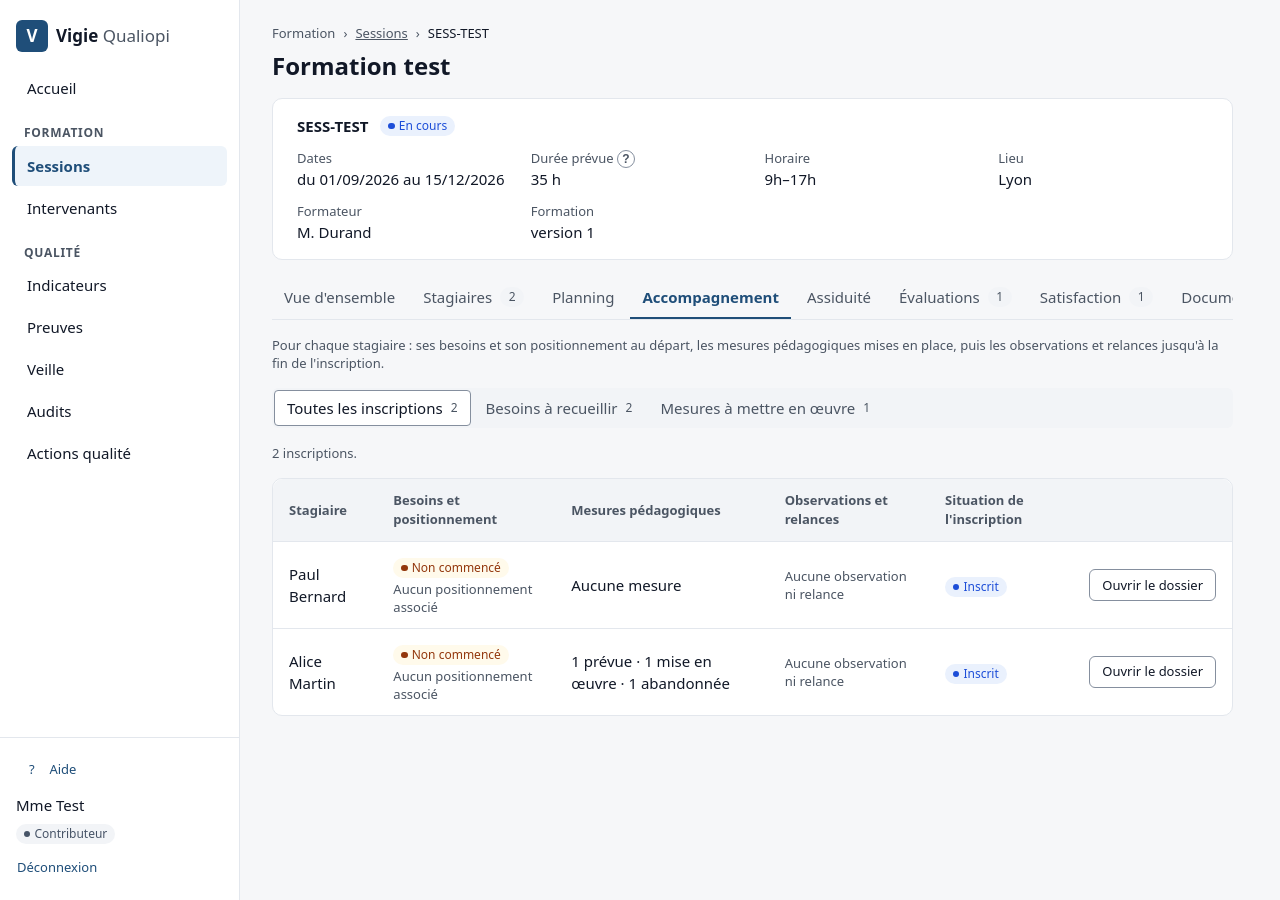
Test case: contributeur : mesures opérationnelles visibles et gérables
Click the button with aria-label "Ouvrir le dossier d".
click(1153, 672)  # box [1089,656,1216,688]
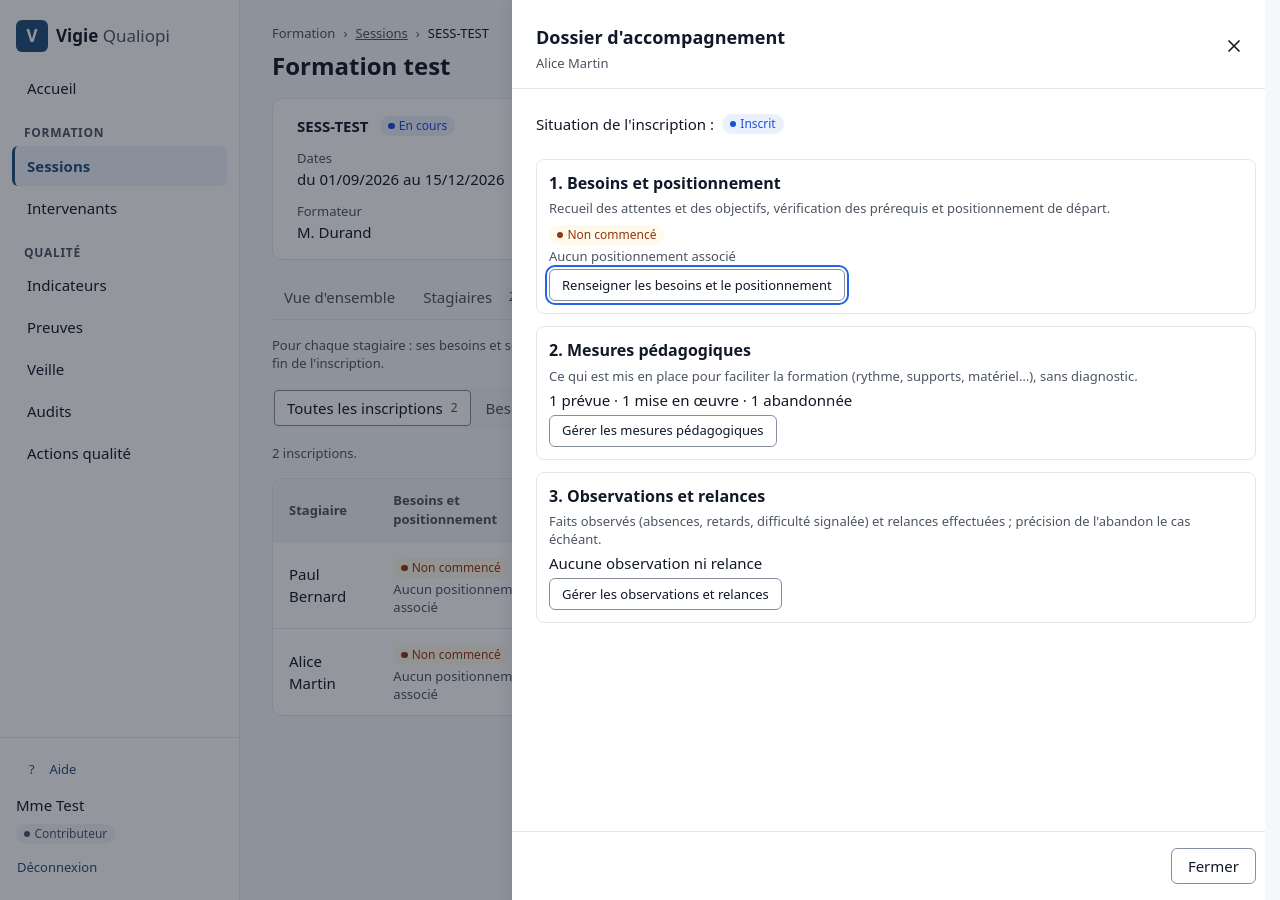
Click the button "Gérer les mesures pédagogiques".
click(663, 431)  # box [549,415,776,447]
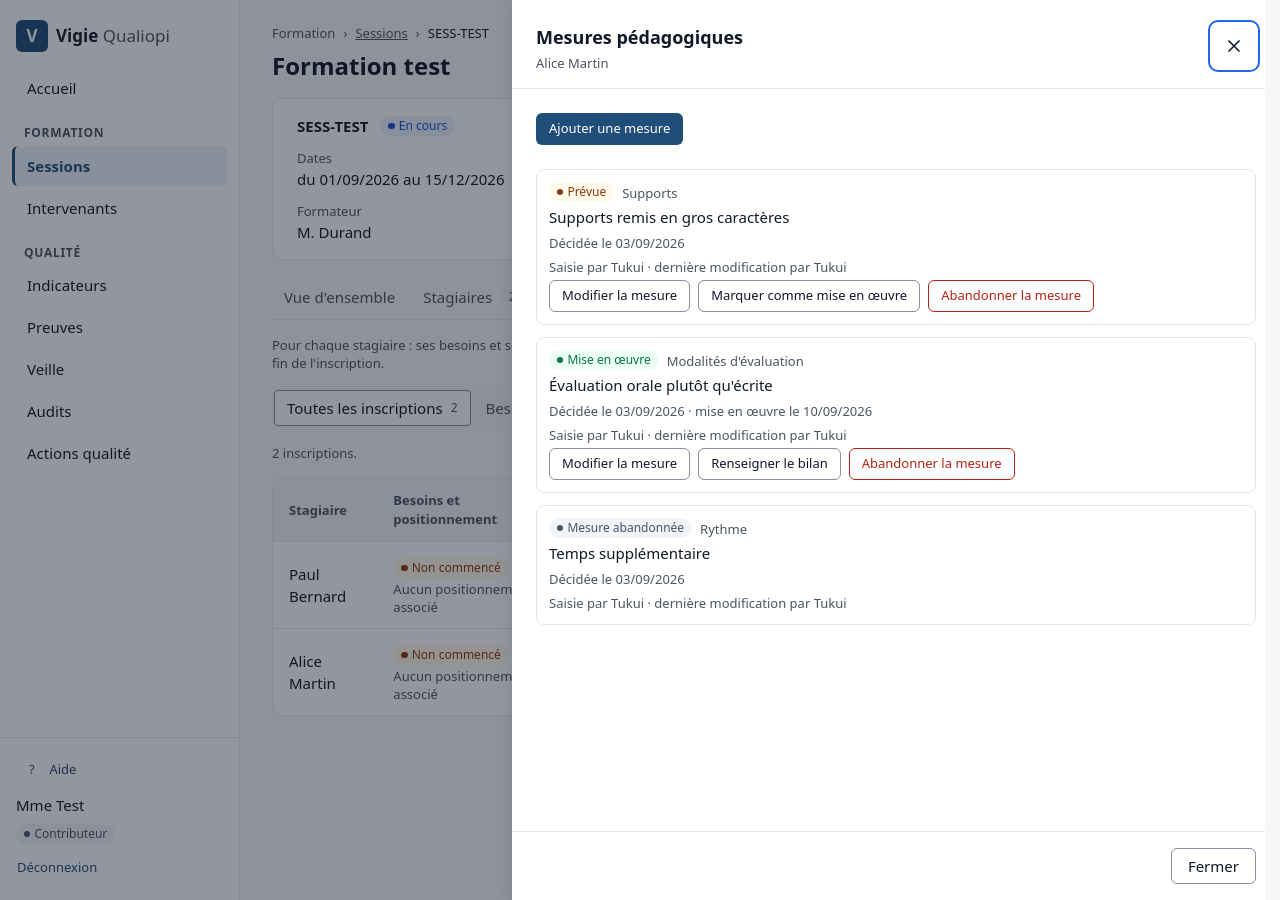
Result: the button "Ajouter une mesure" is shown at [536,113,683,145]
